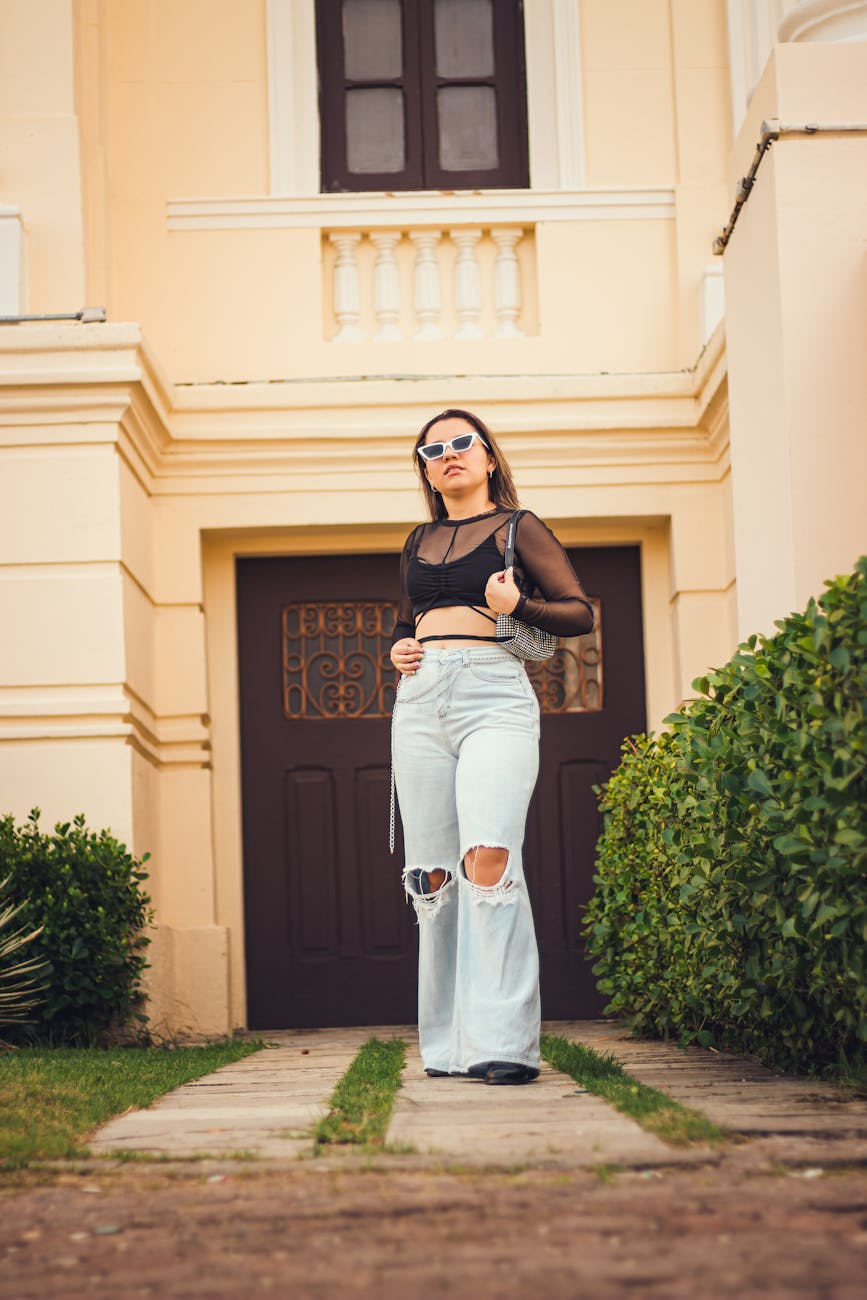crop_top: (396, 508, 538, 621)
ripped_jeans: (385, 637, 555, 1068)
transparent_top: (401, 508, 591, 623)
